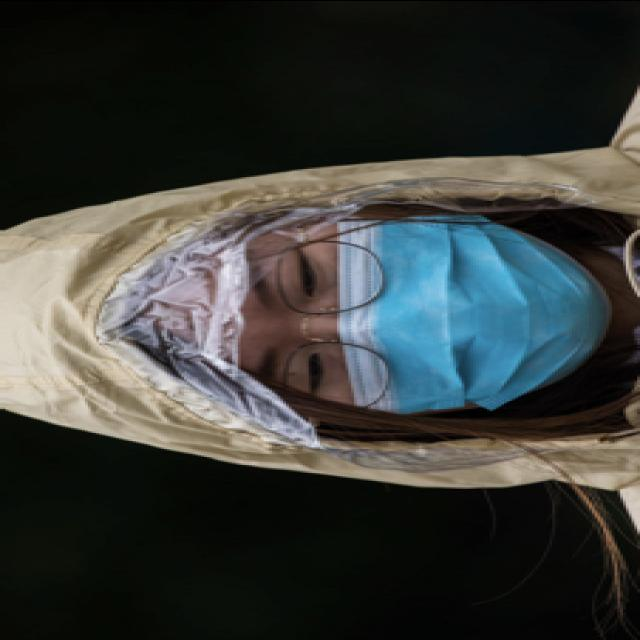mask: (241, 208, 609, 413)
